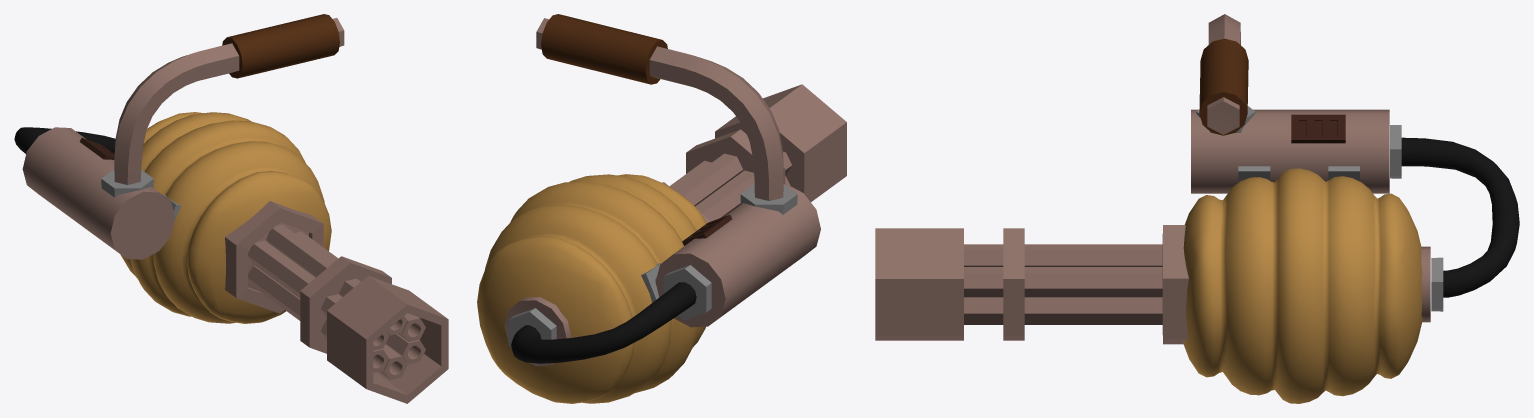
File: beeminigun.glb
3 renders of one model, left to right at view 1: azimuth 30°, elevation 25°; view 2: azimuth 150°, elevation 25°; view 3: azimuth 270°, elevation 25°, orthographic. The views are drawn at different scales.
Parts seen in each view (by area): view 1: Minigun, Barrel; view 2: Minigun, Barrel; view 3: Minigun, Barrel.
Boxes of the visible parts, bbox=[...] form: Minigun: bbox=[14, 14, 344, 323]; Barrel: bbox=[248, 224, 448, 403]; Minigun: bbox=[477, 14, 820, 403]; Barrel: bbox=[669, 84, 846, 221]; Minigun: bbox=[1162, 14, 1519, 403]; Barrel: bbox=[875, 228, 1162, 340].
Bounding box in the file's own units: 2.23 × 2.61 × 4.46.
